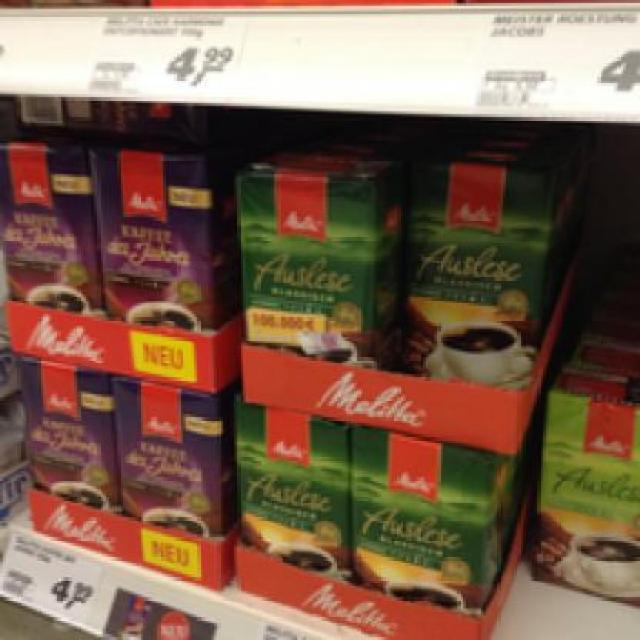Coffee: (230, 142, 404, 372), (400, 137, 560, 383), (348, 422, 506, 615), (88, 136, 228, 332), (228, 392, 348, 574), (112, 372, 228, 534), (0, 132, 97, 314), (15, 351, 111, 506)
